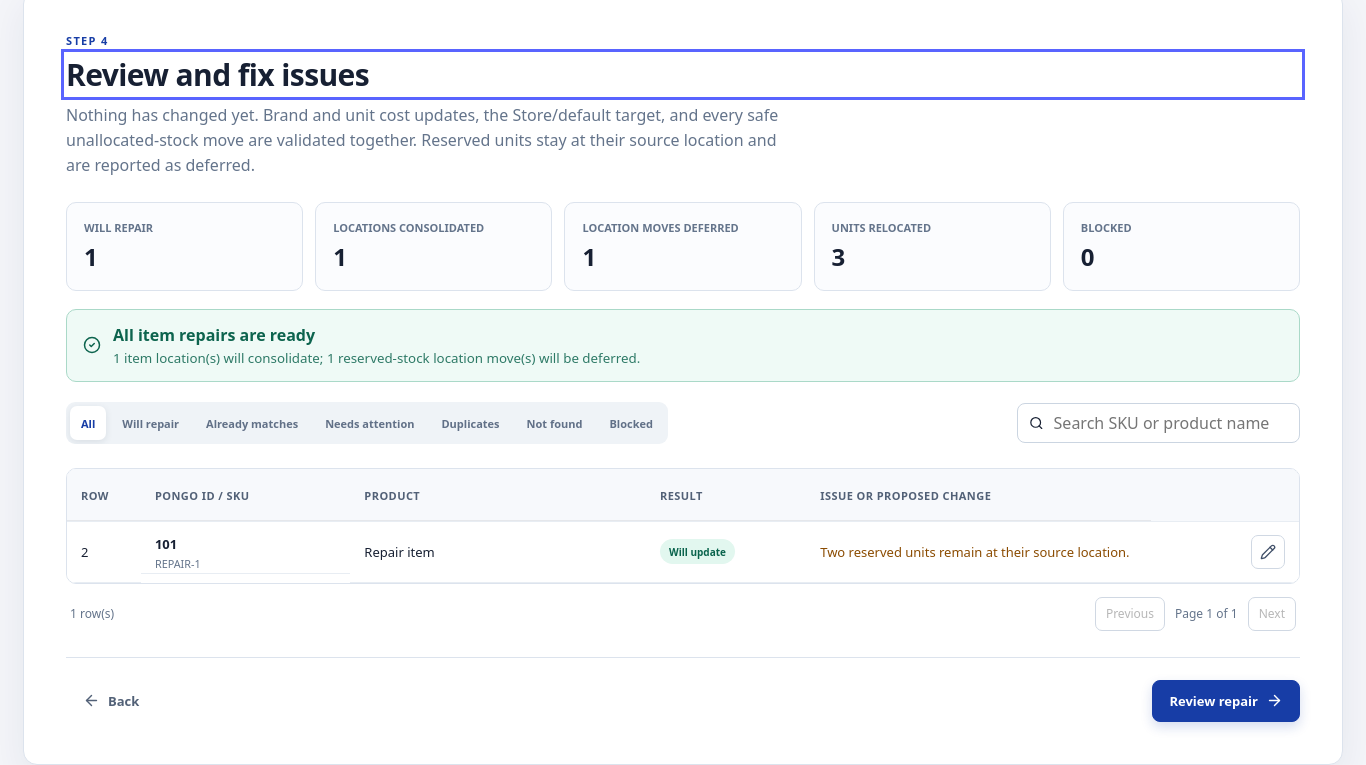
it: summarizes safe repair moves and requires REPAIR confirmation
The image size is (1366, 765).
(page scrolled)
Expected: the text "All item repairs are ready" is shown, [113, 324, 315, 346]
Expected: the text "1" below "Location moves deferred" is shown, [582, 240, 596, 273]
Click the button named "Edit row 2" at (1268, 552), box [1251, 535, 1285, 569]
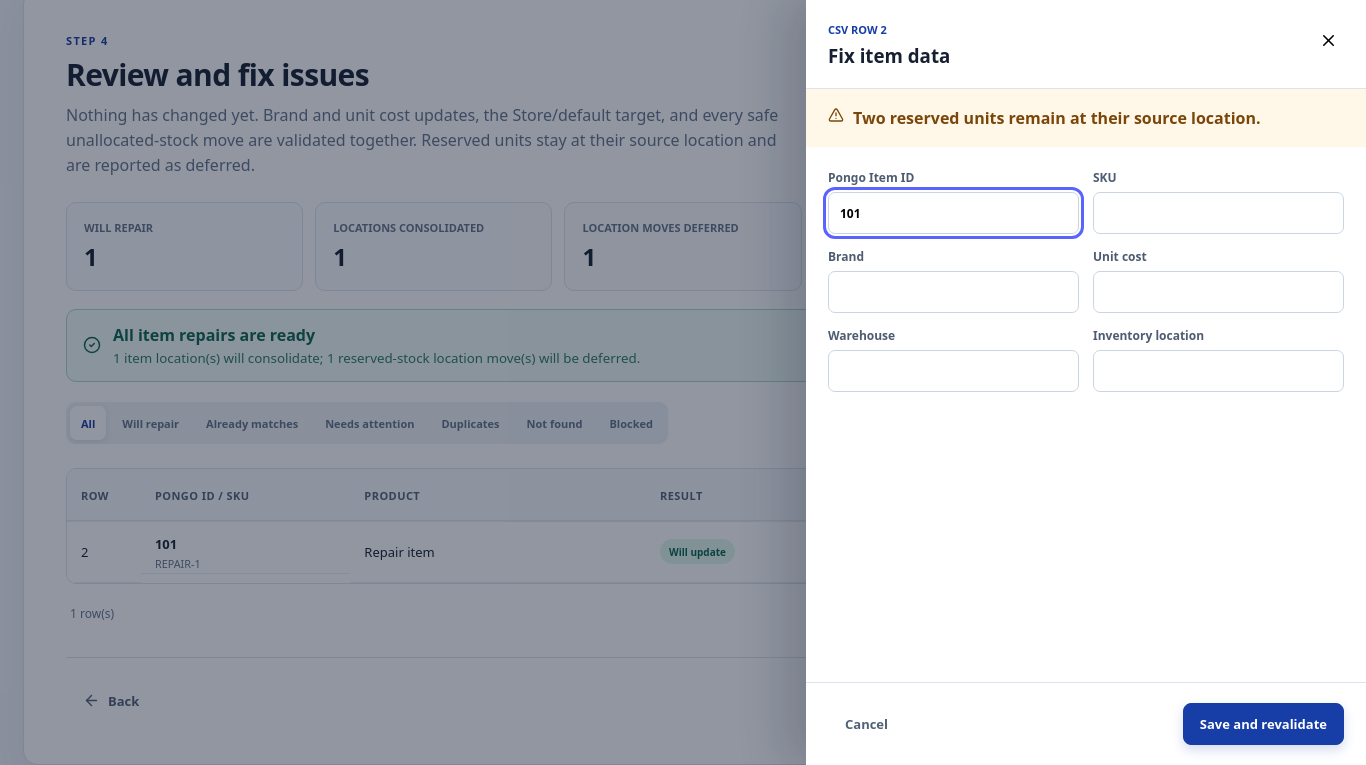
Click the button named "Close row editor" at (1328, 42), box [1313, 30, 1344, 56]
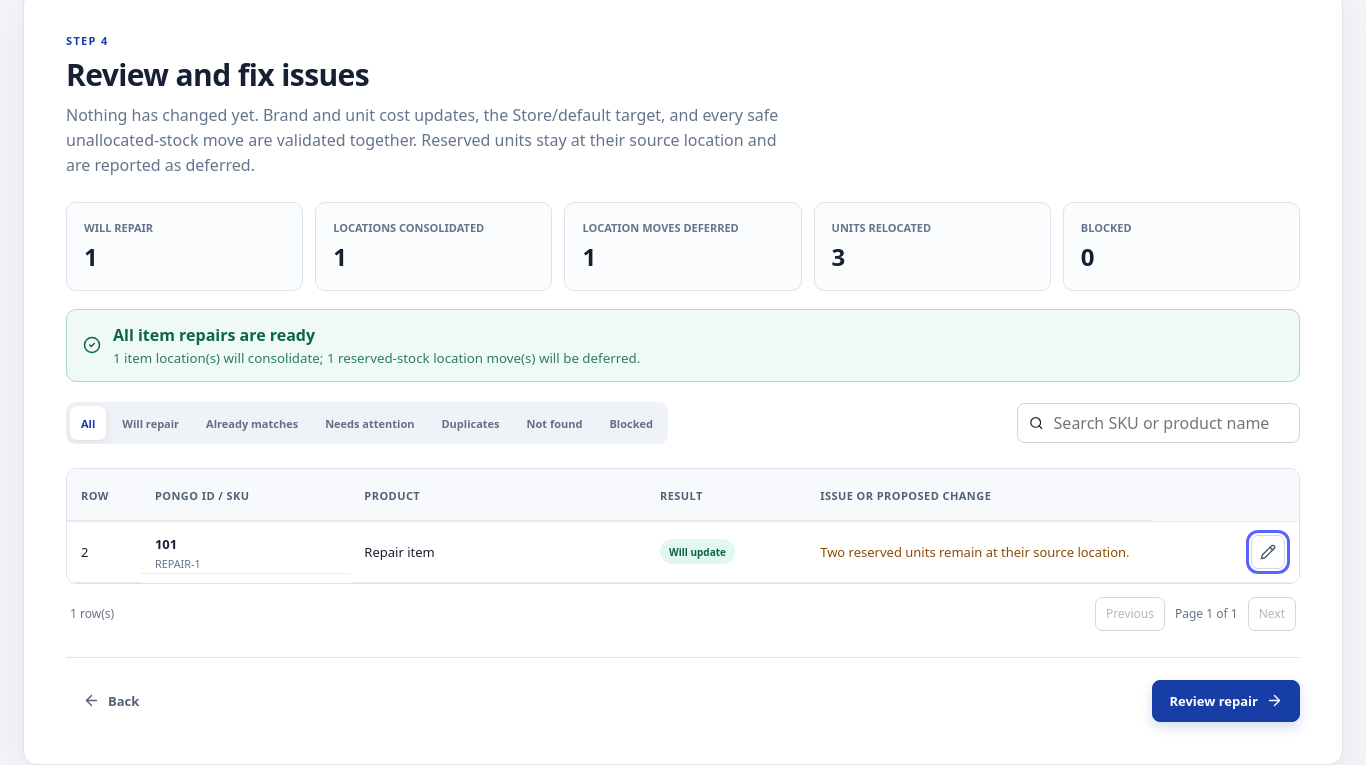
Click the button "Review repair" at (1226, 701), box [1152, 680, 1300, 722]
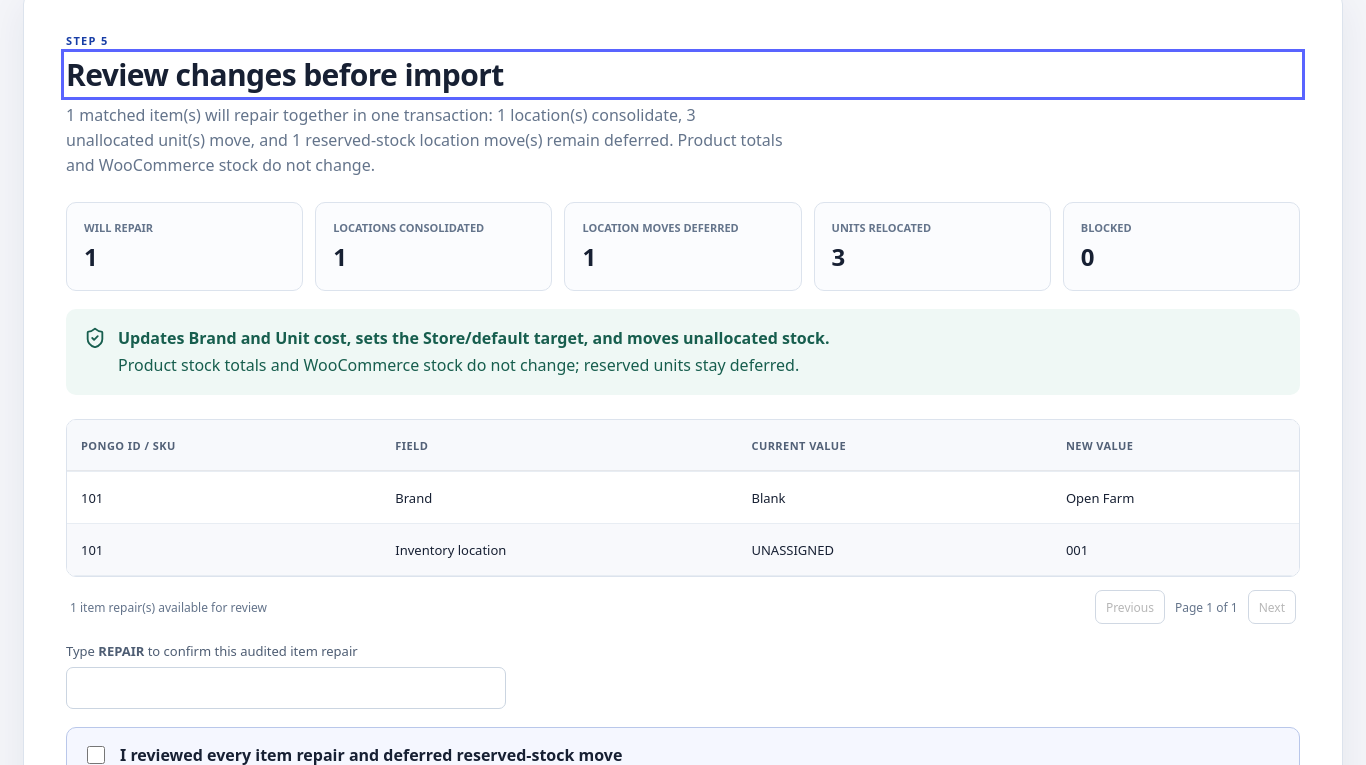
Expected: the text "Product totals and WooCommerce stock do not change" is shown, [66, 104, 783, 176]
Type "repair" into the field labelled "Type REPAIR to confirm" at (286, 688), box [66, 667, 506, 709]
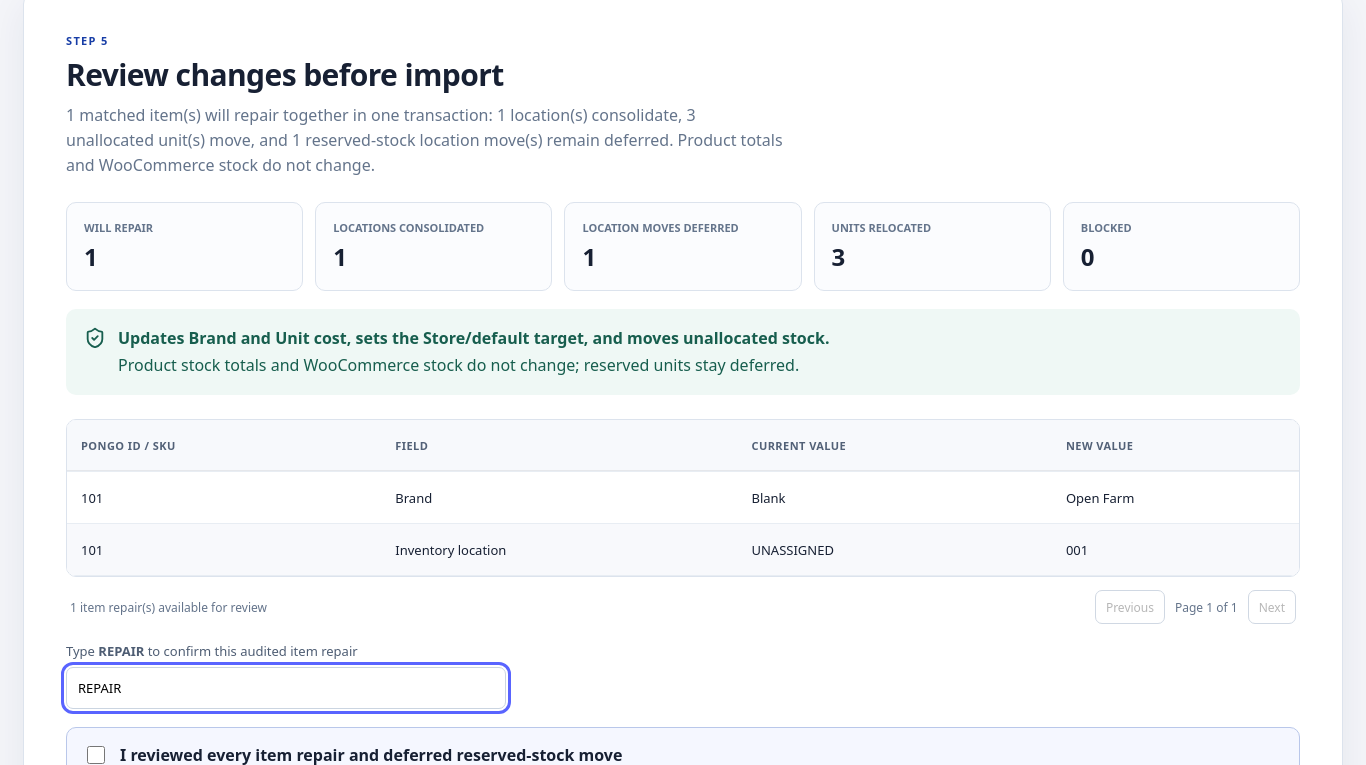
Click the checkbox labelled "I reviewed every item repair" at (96, 755), box [87, 746, 105, 764]
(page scrolled)
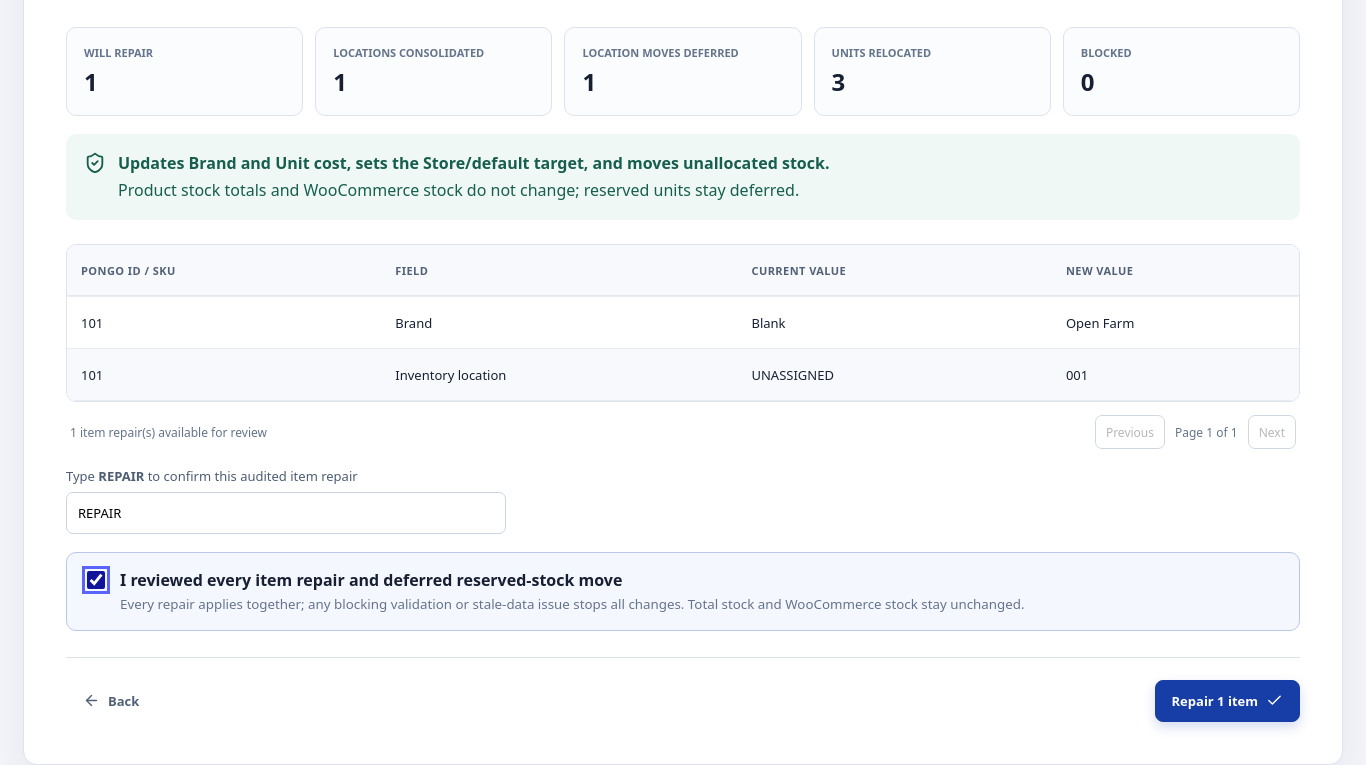
Expected: the button "Repair 1 item" is enabled, [1154, 680, 1300, 722]
